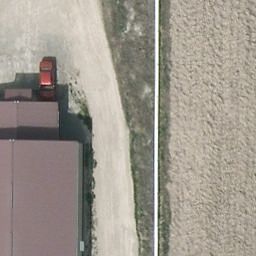car: (39, 60, 57, 102)
